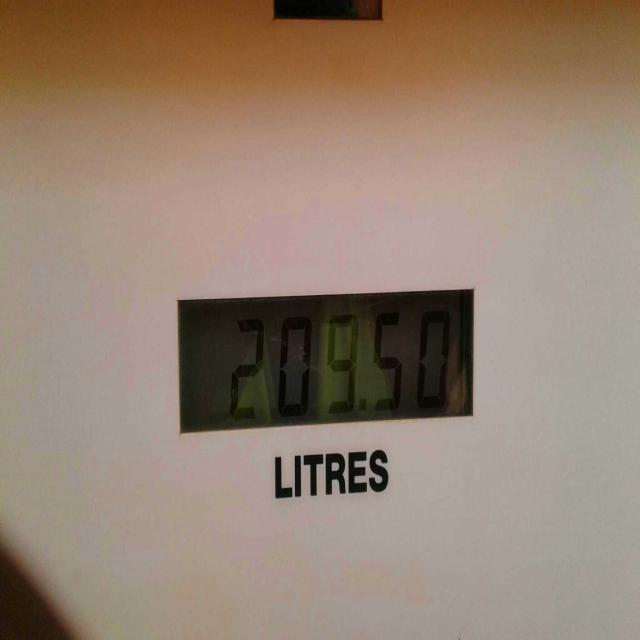.: (352, 393, 376, 419)
0: (408, 307, 456, 411), (273, 316, 317, 426)
2: (215, 311, 271, 423)
5: (364, 296, 403, 415)
9: (321, 309, 357, 421)
